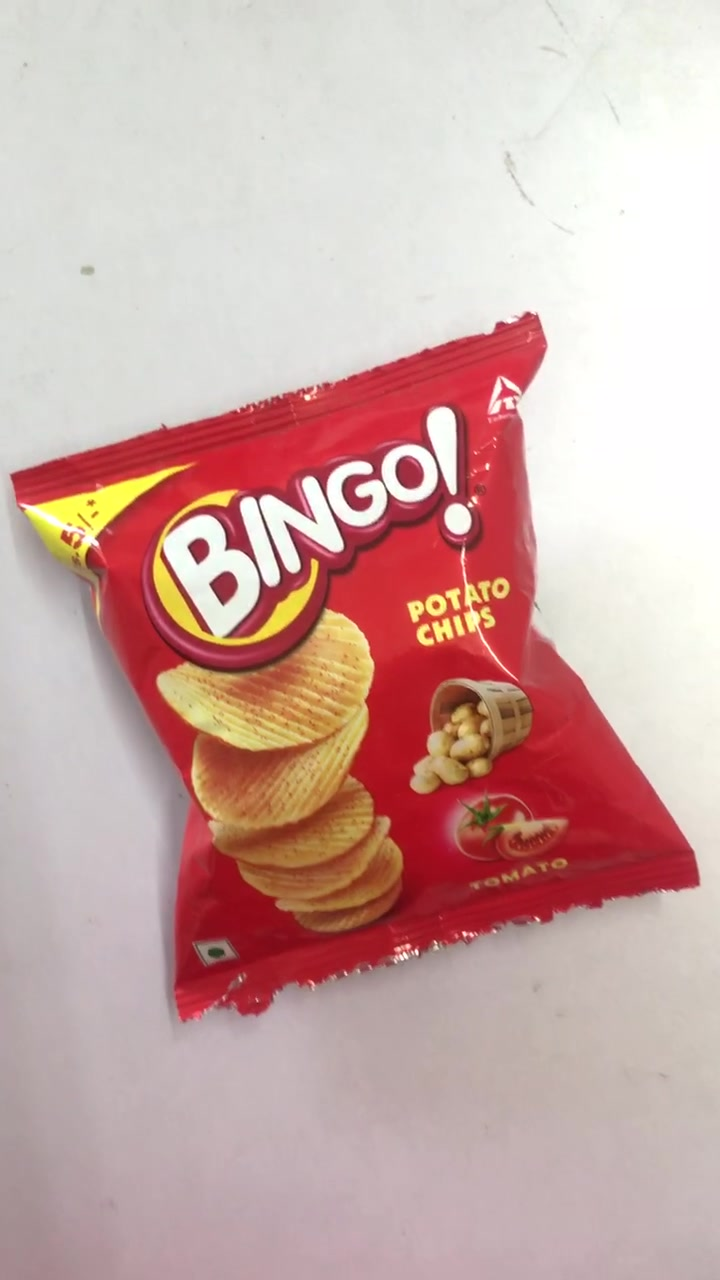Bingo: (20, 328, 698, 1012)
